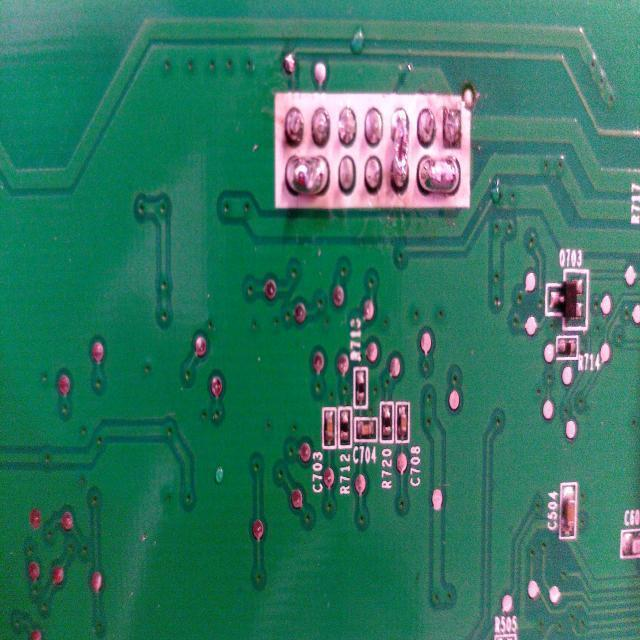Soldering shorted: (284, 151, 332, 205), (416, 153, 462, 200), (390, 104, 410, 196)
